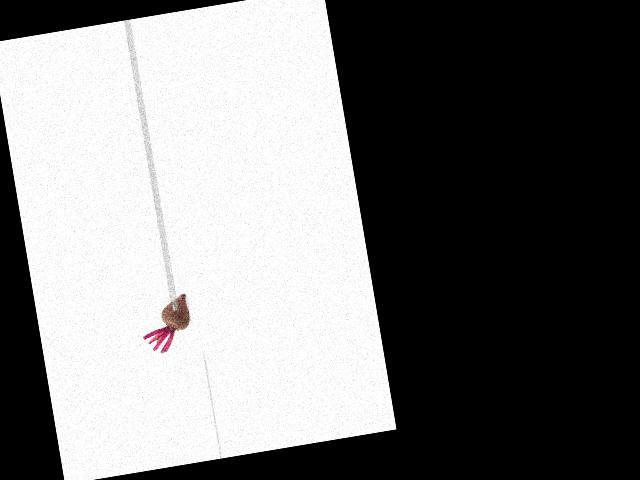beet: (137, 292, 194, 355)
